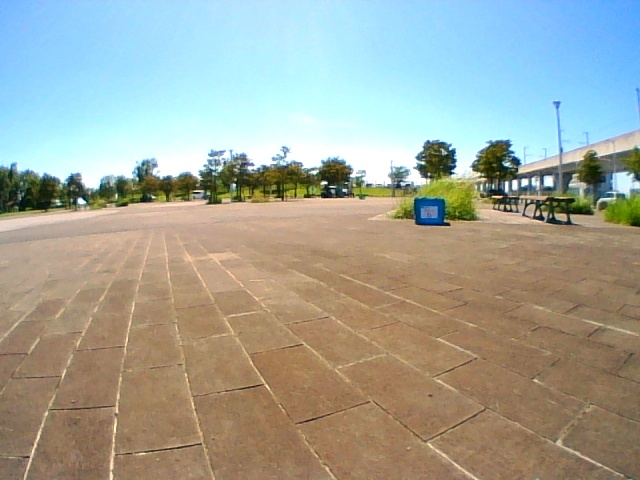blue_box: (416, 199, 444, 224)
tag: (421, 206, 436, 219)
